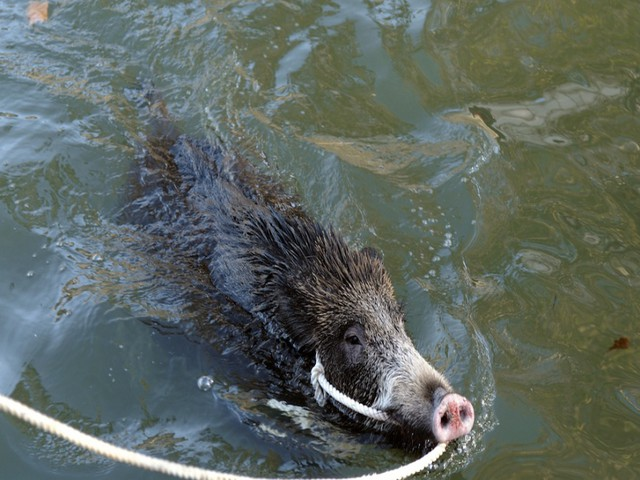Pig: (193, 142, 506, 451)
